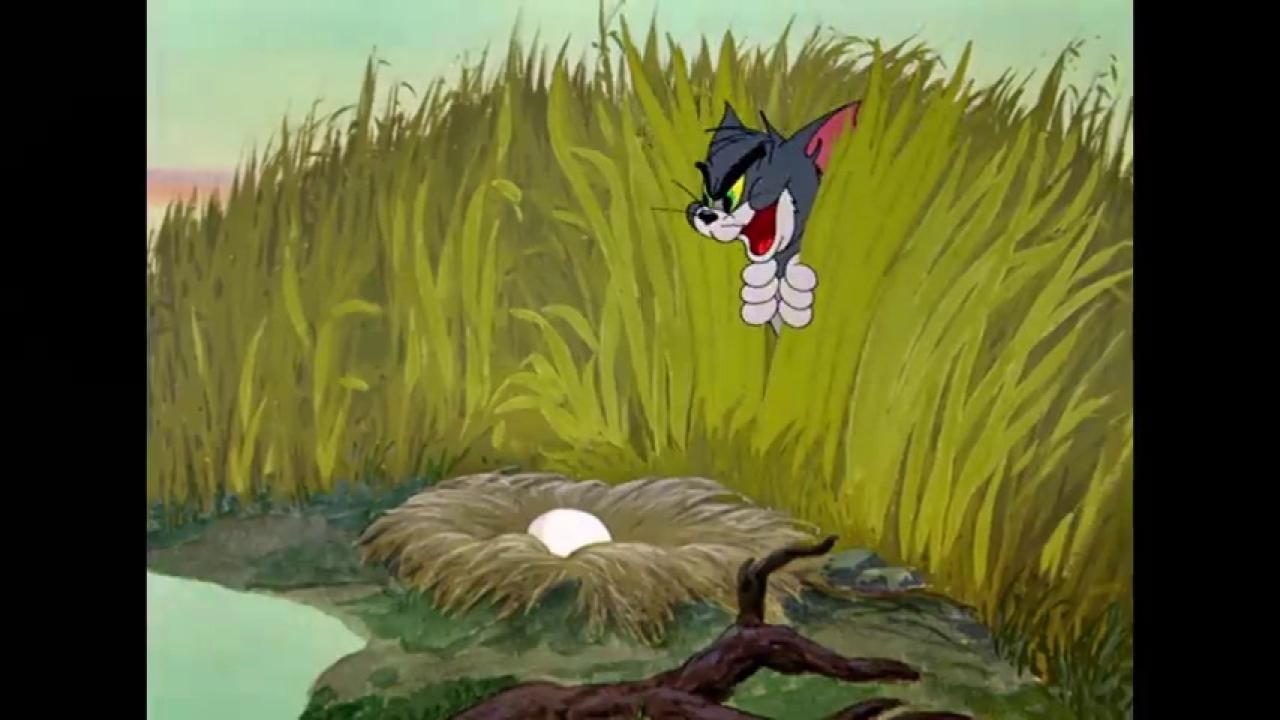Tom: (682, 97, 864, 330)
